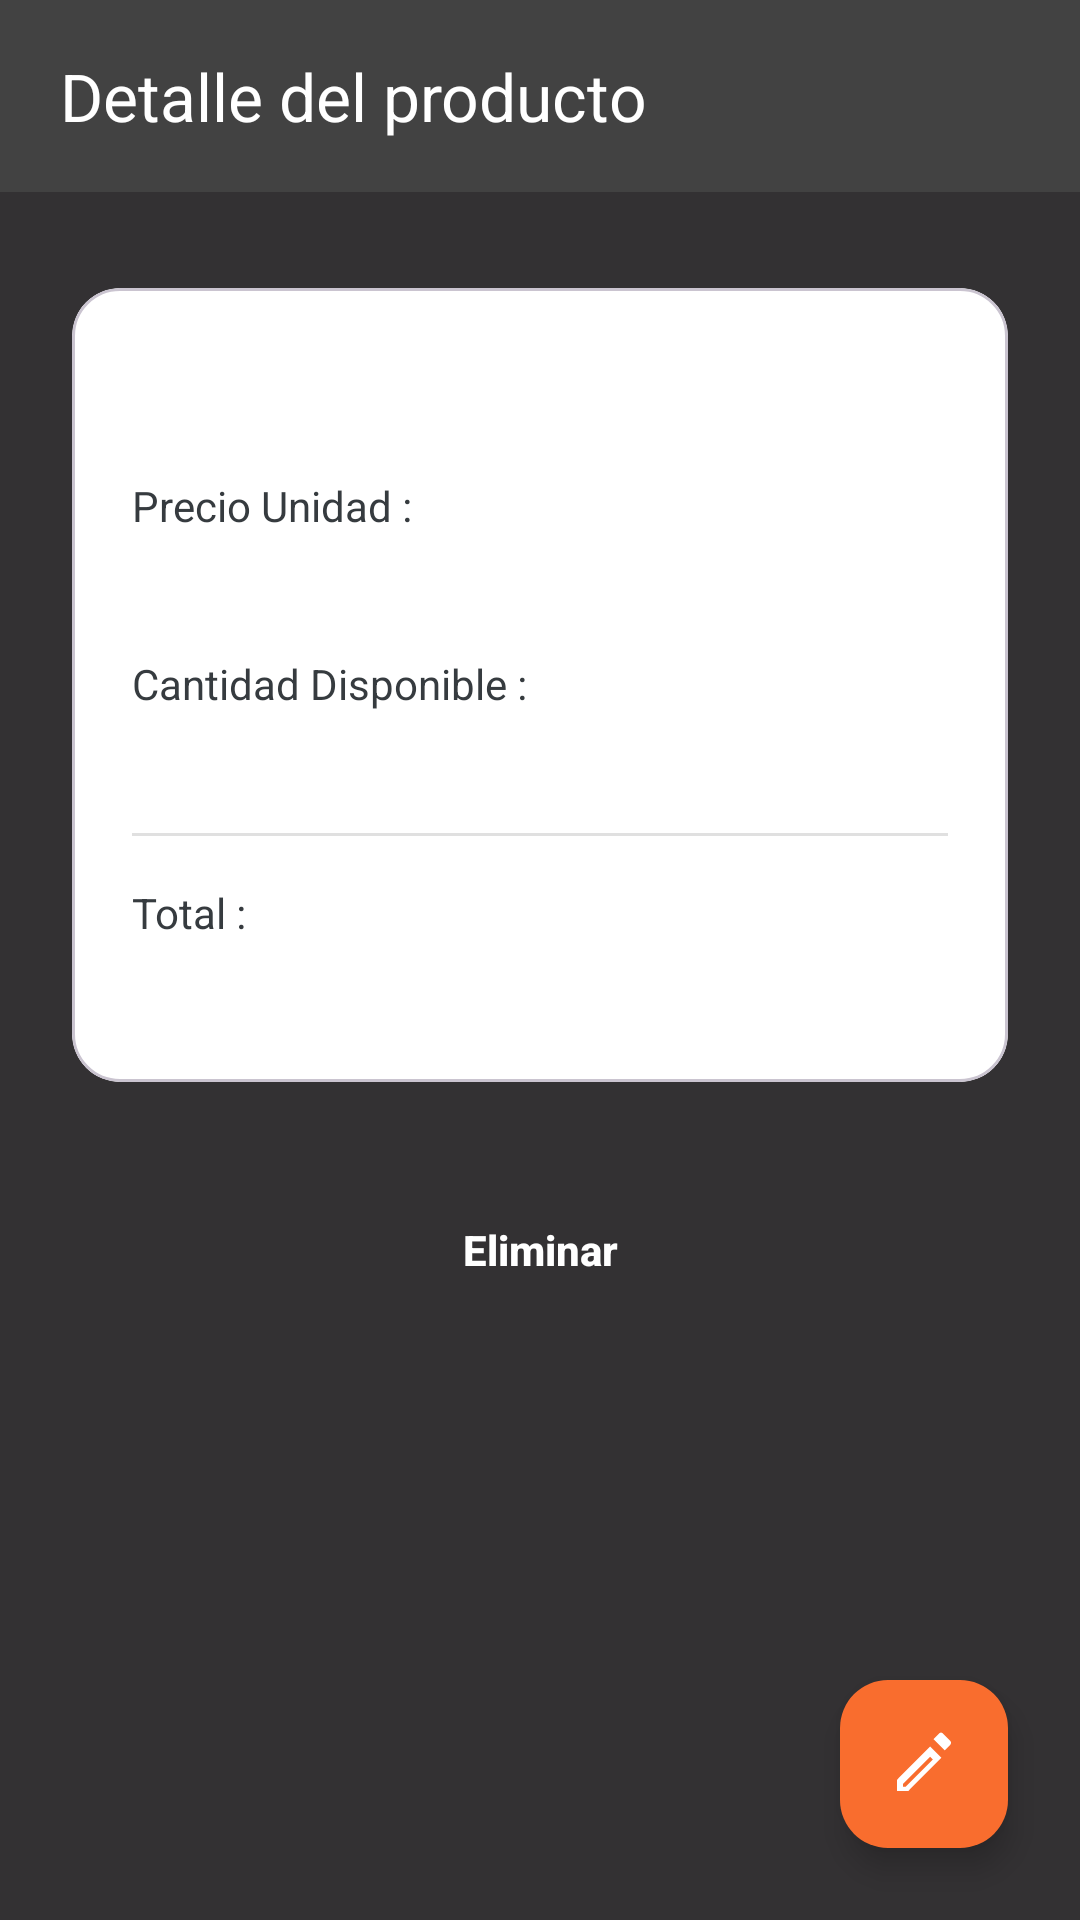

Icon click points for this 1080px x 1920px phone screenshot, format (x,y):
Editar producto: (924,1764)
